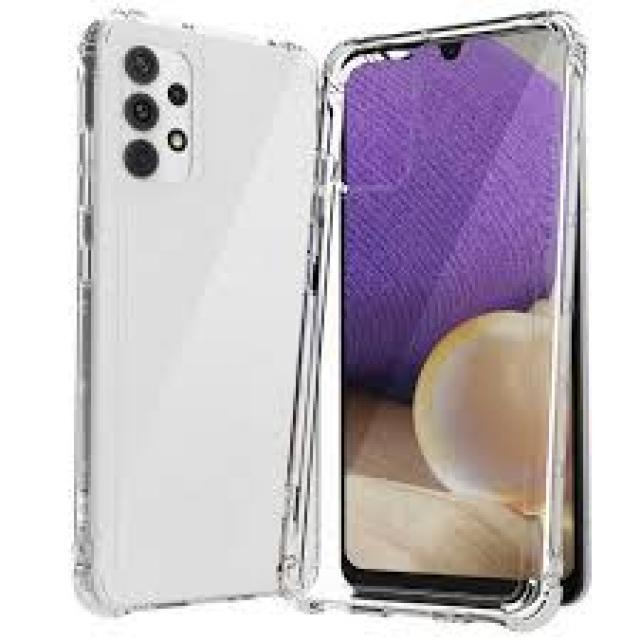phone: (72, 10, 326, 618), (342, 19, 597, 624)
